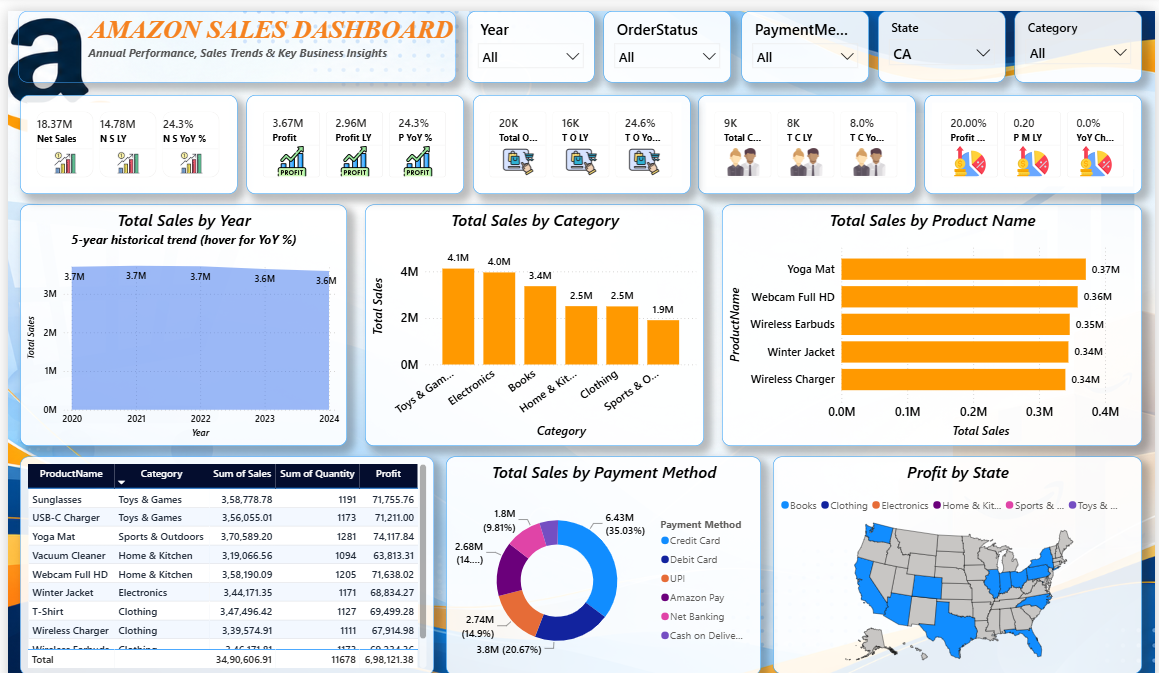

This screenshot's page, from the dashboard's own definition file:
{"tool":"powerbi","page":{"name":"Amazon Sales Dashboard","canvas":[1530,900],"ordinal":0},"visuals":[{"type":"shape","title":"AMAZON SALES DASHBOARD","box":[14,0,583,95],"z":0,"group":"g1"},{"type":"slicer","fields":{"Values":["DimDate.Year"]},"box":[612,0,170,95],"z":0},{"type":"slicer","fields":{"Values":["DimOrderStatus.OrderStatus"]},"box":[794.5,0,170,95],"z":1000},{"type":"slicer","fields":{"Values":["Products.Category"]},"box":[1342,0,170,95],"z":2000},{"type":"slicer","fields":{"Values":["DimPayment.PaymentMethod"]},"box":[977,0,170,95],"z":3000},{"type":"slicer","fields":{"Values":["Customers.State"]},"box":[1159.5,0,170,95],"z":4000},{"type":"areaChart","title":"Total Sales by Year","fields":{"Category":["DimDate.Year"],"Y":["Orders.Total Sales"]},"box":[16,258,436,322],"z":5000},{"type":"clusteredColumnChart","fields":{"Category":["Products.Category"],"Y":["Orders.Total Sales"]},"box":[476,258,452,322],"z":6000},{"type":"clusteredBarChart","title":"Total Sales by Product Name","fields":{"Category":["Products.ProductName"],"Y":["Orders.Total Sales"]},"box":[952,258,560,322],"z":7000},{"type":"shapeMap","title":"Profit by State","fields":{"Category":["Customers.State"],"Series":["Products.Category"]},"box":[1020,594,492,290],"z":8000},{"type":"tableEx","fields":{"Values":["Products.ProductName","Products.Category","Sum(Orders.Sales)","Sum(Orders.Quantity)","Orders.Profit"]},"box":[16,594,552,292],"z":9000},{"type":"donutChart","title":"Total Sales by Payment Method","fields":{"Category":["DimPayment.PaymentMethod"],"Y":["Orders.Total Sales"]},"box":[584,594,420,292],"z":10000},{"type":"group","id":"g1","title":"Group 7","box":[14,0,583,95],"z":11000},{"type":"cardVisual","fields":{"Data":["Orders.Net Sales","Customers.Net Sales LY","Customers.Net Sales YoY %"]},"box":[16,112,290,132],"z":17000},{"type":"cardVisual","fields":{"Data":["Orders.Total Customers","Customers.Total Customers LY","Customers.Total Customers YoY %"]},"box":[920.5,112,290,132],"z":18000},{"type":"cardVisual","fields":{"Data":["Orders.Profit Margin %","Customers.Profit Margin LY","Customers.Profit Margin YoY Change"]},"box":[1222,112,290,132],"z":19000},{"type":"cardVisual","fields":{"Data":["Orders.Profit","Customers.Profit LY","Customers.Profit YoY %"]},"box":[317.5,112,290,132],"z":20000},{"type":"cardVisual","fields":{"Data":["Orders.Total Orders","Customers.Total Orders LY","Customers.Total Orders YoY %"]},"box":[619,112,290,132],"z":21000}]}

Visuals, with their boxes in screenshot pixels (x1, y1, x2, y2), scaled from the page's 1530x900 canvas onto the 1159x673 screenshot:
"AMAZON SALES DASHBOARD" shape: 11,0,452,71
slicer - DimDate.Year: 464,0,592,71
slicer - DimOrderStatus.OrderStatus: 602,0,731,71
slicer - Products.Category: 1017,0,1145,71
slicer - DimPayment.PaymentMethod: 740,0,869,71
slicer - Customers.State: 878,0,1007,71
"Total Sales by Year" areaChart: 12,193,342,434
clusteredColumnChart - Products.Category x Orders.Total Sales: 361,193,703,434
"Total Sales by Product Name" clusteredBarChart: 721,193,1145,434
"Profit by State" shapeMap: 773,444,1145,661
tableEx - Products.ProductName x Products.Category: 12,444,430,663
"Total Sales by Payment Method" donutChart: 442,444,761,663
"Group 7" group: 11,0,452,71
cardVisual - Orders.Net Sales x Customers.Net Sales LY: 12,84,232,182
cardVisual - Orders.Total Customers x Customers.Total Customers LY: 697,84,917,182
cardVisual - Orders.Profit Margin % x Customers.Profit Margin LY: 926,84,1145,182
cardVisual - Orders.Profit x Customers.Profit LY: 241,84,460,182
cardVisual - Orders.Total Orders x Customers.Total Orders LY: 469,84,689,182
